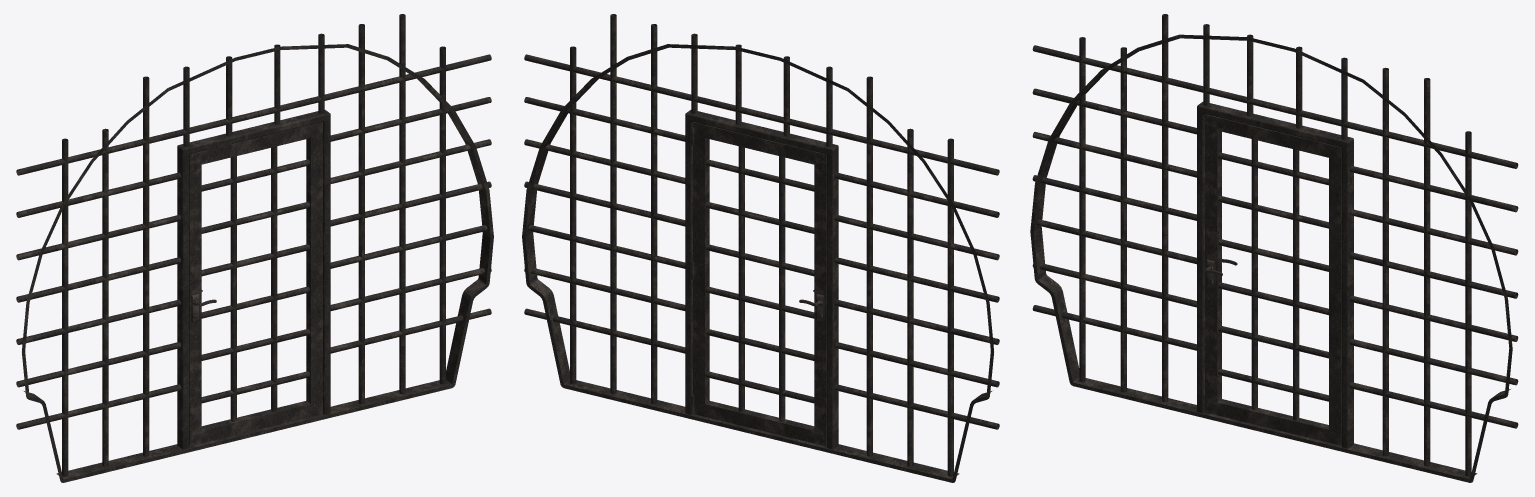
File: bars_metal_4.obj
3 renders of one model, left to right at view 1: azimuth 30°, elevation 25°; view 2: azimuth 150°, elevation 25°; view 3: azimuth 330°, elevation 25°, orthographic. The views are drawn at different scales.
Visible parts, largest first — view 1: bars_metal_4, door_6; view 2: bars_metal_4, door_6; view 3: bars_metal_4, door_6.
Boxes of the visible parts, bbox=[...] form: bars_metal_4: bbox=[16, 14, 493, 482]; door_6: bbox=[189, 122, 322, 446]; bars_metal_4: bbox=[522, 14, 999, 482]; door_6: bbox=[691, 122, 826, 446]; bars_metal_4: bbox=[1030, 14, 1518, 482]; door_6: bbox=[1205, 114, 1341, 445].
Size of the model in its own units: 3.5 by 2.72 by 0.194.
